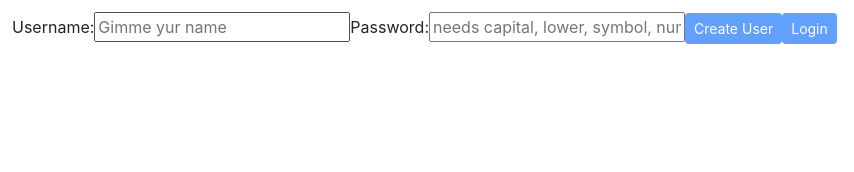
Test case: login button should be disabled until both username and password has content
Expected: the button "Login" is disabled, [782, 13, 837, 44]
Type "admin" into the field with placeholder "Gimme yur name".
click(222, 27); type("admin")  # box [94, 12, 350, 42]
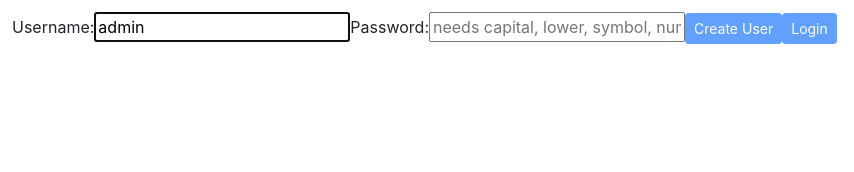
Expected: the button "Login" is disabled, [782, 13, 837, 44]
Type "pass" into the password field with placeholder "needs capital, lower, symbol, number, first-born, last 4 ssn, etc".
click(557, 27); type("pass")  # box [429, 12, 685, 42]
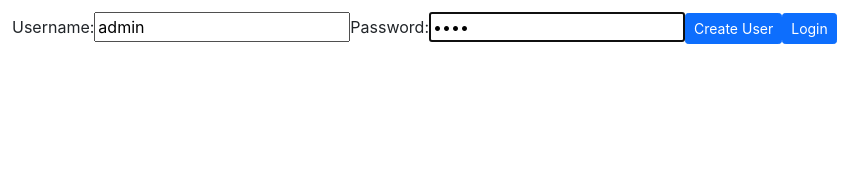
Expected: the button "Login" is enabled, [782, 13, 837, 44]
